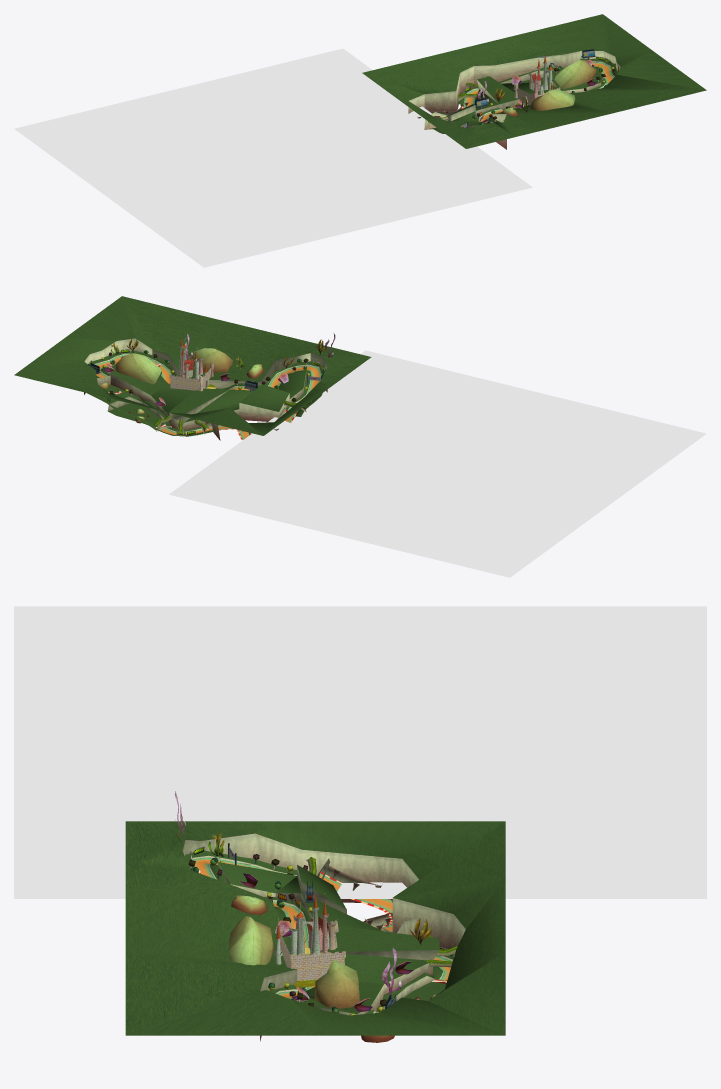
Rendered from Fish Hooks Track 3.glb.
3 views of the same model, one above another, from view 1: azimuth 30°, elevation 25°; view 2: azimuth 150°, elevation 25°; view 3: azimuth 270°, elevation 25° (orthographic). The views are drawn at different scales.
Parts seen in each view (by area): view 1: Plane, Plane_002, Plane_001, big rock (×2), Castle, Track_Section_1_001; view 2: Plane (×2), Plane_002, Plane_001, Track_Section_1_001, big rock (×2), Castle; view 3: Plane (×2), Plane_002, Plane_001, big rock (×2), Castle, Track_Section_1_001, tube_tunnel.
Part boxes in pixels (bbox=[...]): Plane: bbox=[14, 48, 532, 267]; Plane_002: bbox=[362, 14, 706, 149]; Plane_001: bbox=[446, 66, 600, 128]; big rock (×2): bbox=[531, 60, 596, 110]; Castle: bbox=[513, 54, 560, 107]; Track_Section_1_001: bbox=[430, 58, 617, 133]; Plane (×2): bbox=[87, 350, 706, 577]; Plane_002: bbox=[14, 296, 371, 435]; Plane_001: bbox=[105, 364, 306, 430]; Track_Section_1_001: bbox=[88, 350, 325, 416]; big rock (×2): bbox=[115, 348, 232, 384]; Castle: bbox=[169, 335, 215, 391]; Plane (×2): bbox=[14, 606, 706, 1012]; Plane_002: bbox=[125, 821, 505, 1041]; Plane_001: bbox=[218, 862, 439, 1015]; big rock (×2): bbox=[228, 916, 359, 1008]; Castle: bbox=[274, 893, 345, 987]; Track_Section_1_001: bbox=[185, 850, 378, 1013]; tube_tunnel: bbox=[317, 858, 416, 934].
Bounding box in the file's own units: 2503 × 308 × 1544.
Materials: 30 (28 with a texture image).
